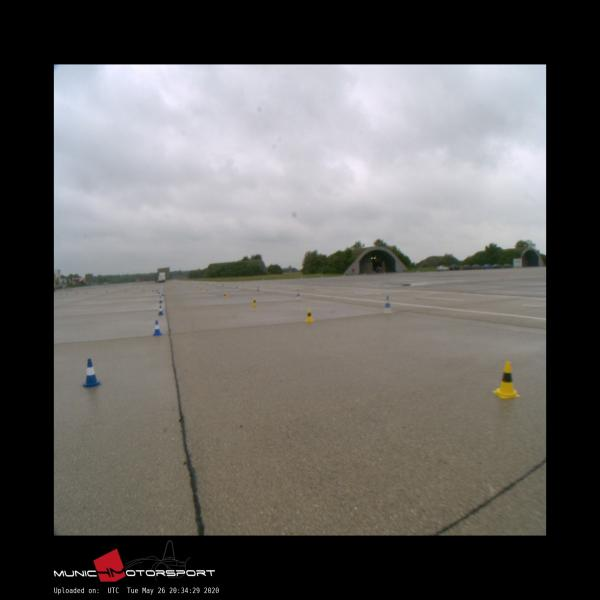blue_cone: (82, 358, 100, 387), (152, 320, 162, 335), (158, 305, 164, 314)
yellow_cone: (492, 360, 520, 398), (305, 308, 313, 322), (252, 298, 257, 306)
